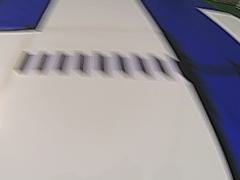CrossWalk: (8, 43, 194, 84)
